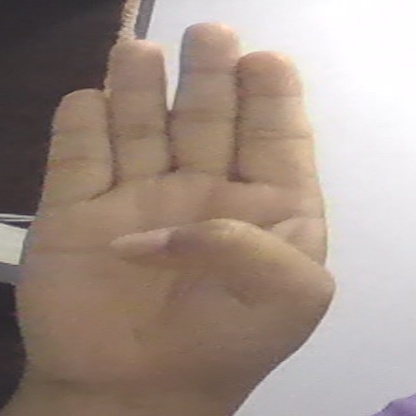B: (15, 25, 335, 397)
